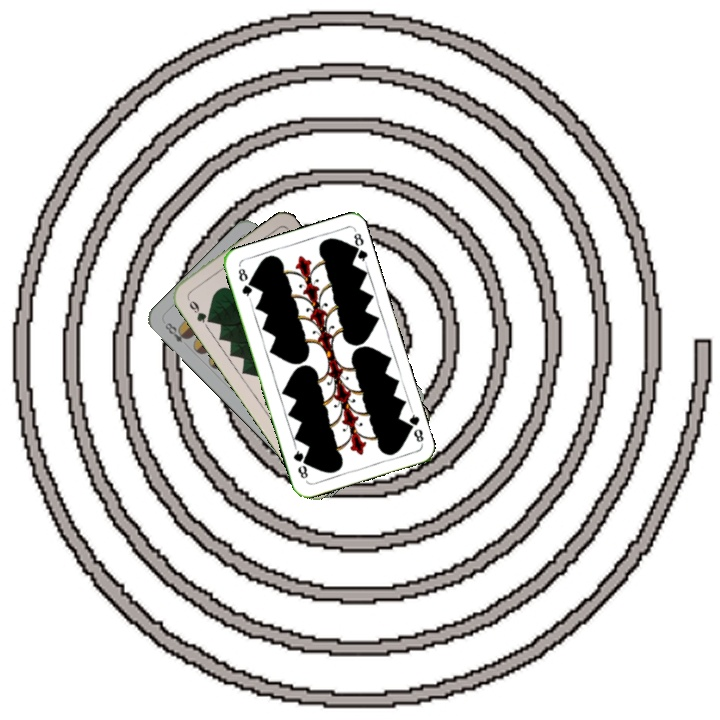E8: (160, 318, 192, 345)
G8: (402, 406, 426, 446), (234, 264, 255, 302)
G9: (185, 296, 214, 326)
